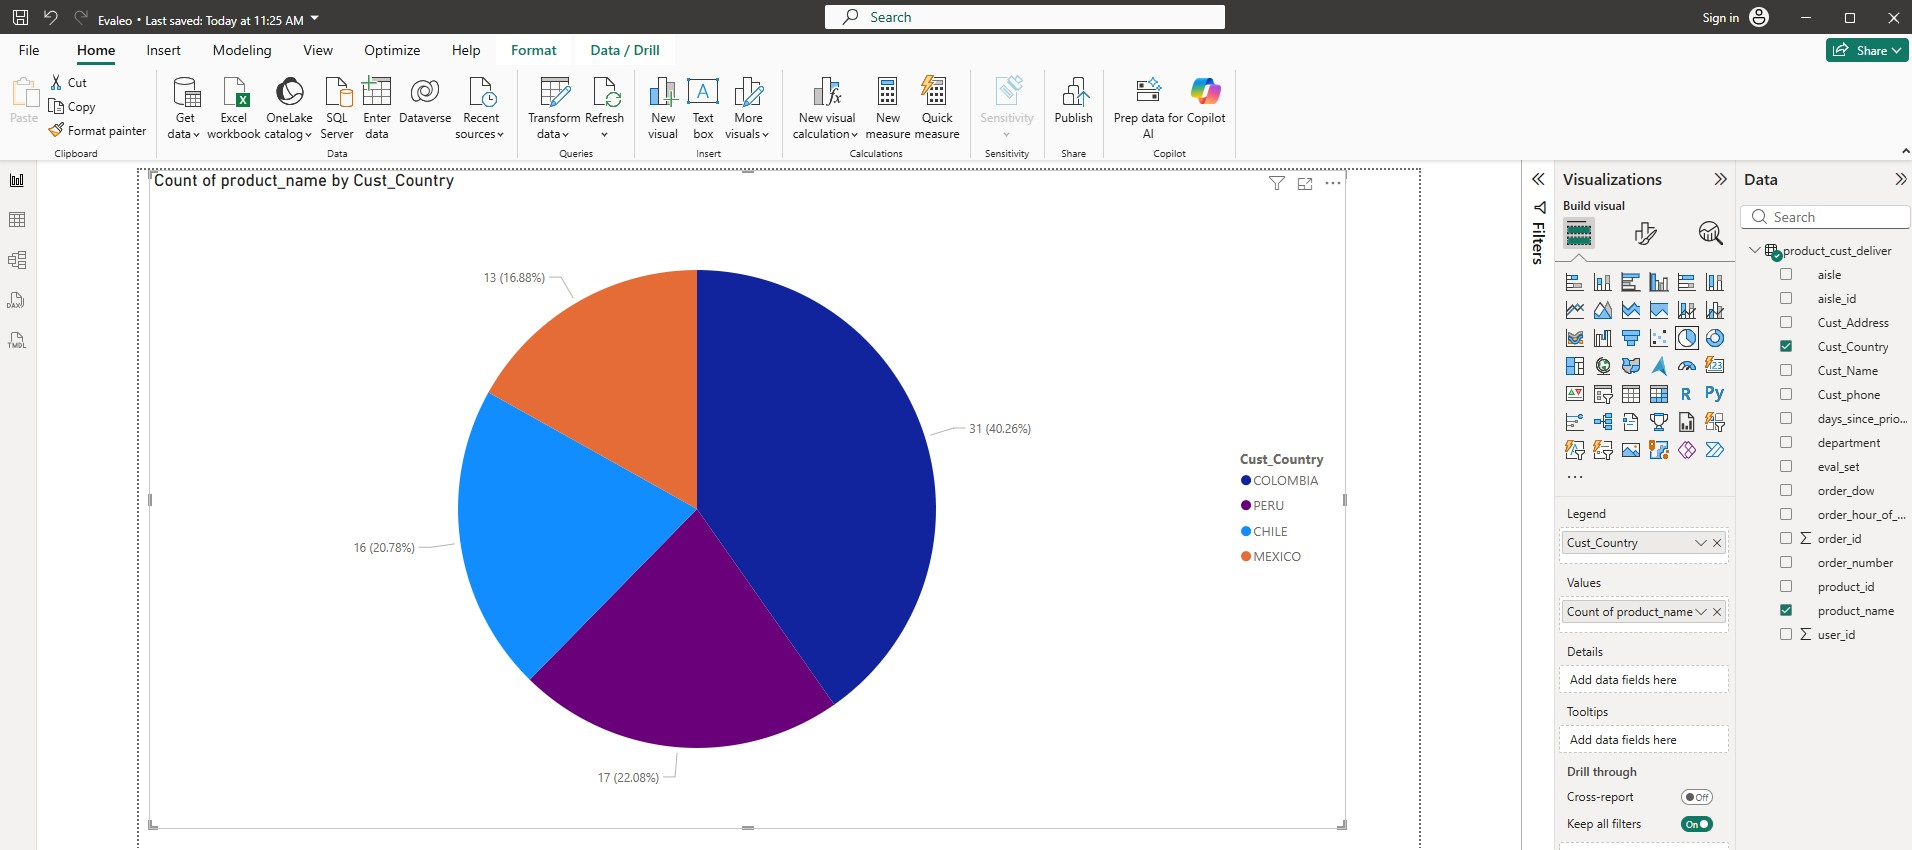

What the dashboard file says about the page in this screenshot:
{"tool":"powerbi","page":{"name":"Page 1","canvas":[1280,720],"ordinal":0},"visuals":[{"type":"pieChart","fields":{"Category":["product_cust_deliver.Cust_Country"],"Y":["Count(product_cust_deliver.product_name)"]},"box":[10,0,1197,659],"z":0}]}

Visuals, with their boxes on the page's 1280x720 design canvas (x1, y1, x2, y2). These are canvas units, not pixel positions in the 1912x850 screenshot, which may show the page scaled, cropped or inside an application window:
pieChart - product_cust_deliver.Cust_Country x Count(product_cust_deliver.product_name): 10, 0, 1207, 659
